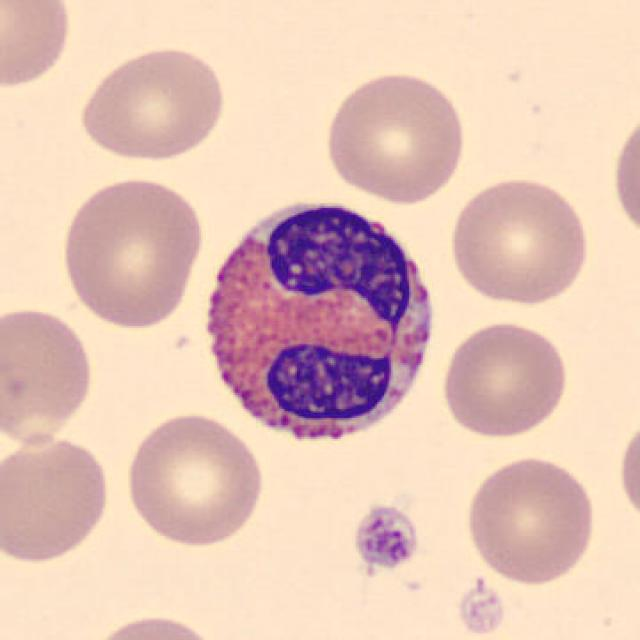Eosinophil: (187, 182, 448, 464)
Platelets: (349, 501, 423, 573), (455, 580, 507, 637)
RBC: (55, 171, 208, 331), (320, 67, 469, 205), (121, 409, 267, 548), (444, 173, 594, 307), (461, 451, 599, 587), (74, 42, 228, 162), (437, 317, 571, 441), (0, 430, 114, 568), (0, 302, 98, 452), (0, 0, 75, 92), (608, 104, 640, 245), (84, 610, 224, 640), (615, 412, 640, 530)
